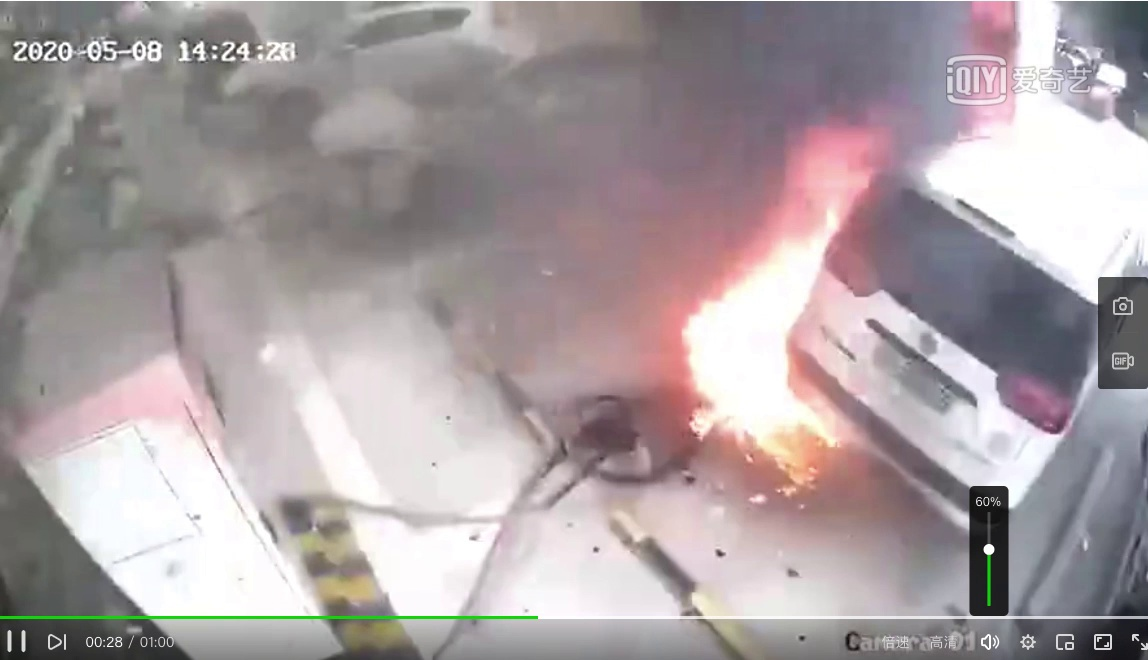fire: (675, 186, 853, 490)
